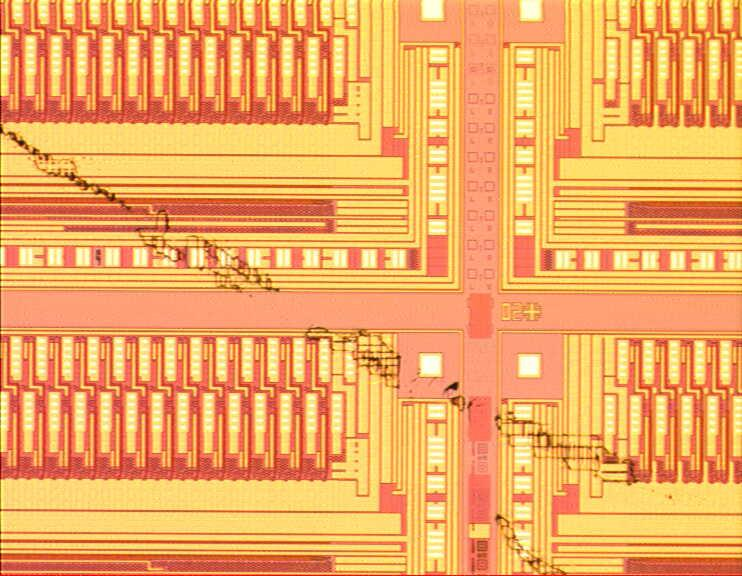SCRATCH: (1, 118, 690, 576)
